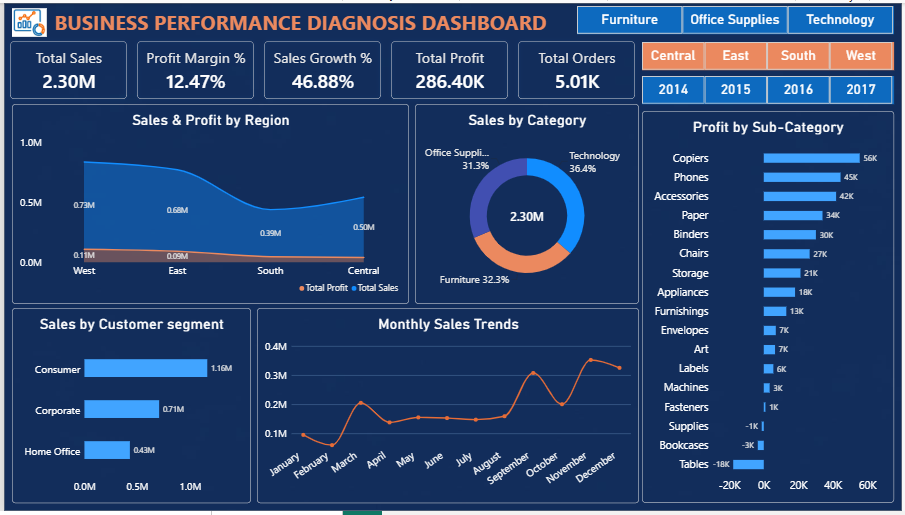

This screenshot's page, from the dashboard's own definition file:
{"tool":"powerbi","page":{"name":"Business Performance Dashboard","canvas":[1920,1080],"ordinal":0},"visuals":[{"type":"image","box":[0,0,1909.1,1080],"z":0},{"type":"cardVisual","fields":{"Data":["superstore_cleaned.Total Profit"]},"box":[812.1,70.2,270,145],"z":2},{"type":"cardVisual","fields":{"Data":["superstore_cleaned.Sales Growth %"]},"box":[542.1,70.2,270,145],"z":3},{"type":"cardVisual","fields":{"Data":["superstore_cleaned.Total Orders"]},"box":[1082.1,70.2,270,145],"z":5},{"type":"cardVisual","fields":{"Data":["superstore_cleaned.Profit Margin %"]},"box":[272.1,70.2,270,145],"z":6},{"type":"lineChart","title":"Monthly Sales Trends","fields":{"Category":["superstore_cleaned.order_date.Variation.Date Hierarchy.Month"],"Y":["superstore_cleaned.Total Sales"]},"box":[537.9,648.4,812.1,414.6],"z":7},{"type":"clusteredBarChart","title":"Profit by Sub-Category","fields":{"Category":["superstore_cleaned.sub-category"],"Y":["superstore_cleaned.Total Profit"]},"box":[1356.4,229.6,535.7,833.4],"z":8},{"type":"stackedAreaChart","title":"Sales & Profit by Region","fields":{"Category":["superstore_cleaned.region"],"Y":["superstore_cleaned.Total Profit","superstore_cleaned.Total Sales"]},"box":[17,214.7,844,425.2],"z":9},{"type":"clusteredBarChart","title":"Sales by Customer segment","fields":{"Category":["superstore_cleaned.segment"],"Y":["superstore_cleaned.Total Sales"]},"box":[17,648.4,508.1,414.6],"z":10},{"type":"donutChart","title":"Sales by Category","fields":{"Category":["superstore_cleaned.category"],"Y":["superstore_cleaned.Total Sales"]},"box":[873.8,214.7,476.2,425.2],"z":11},{"type":"cardVisual","fields":{"Data":["superstore_cleaned.Total Sales"]},"box":[2.1,70.2,270,145],"z":12},{"type":"advancedSlicerVisual","fields":{"Values":["superstore_cleaned.order_year"]},"box":[1356.4,155.2,535.7,59.5],"z":13},{"type":"advancedSlicerVisual","fields":{"Values":["superstore_cleaned.category"]},"box":[1218.2,6.4,673.9,59.5],"z":14},{"type":"advancedSlicerVisual","fields":{"Values":["superstore_cleaned.region"]},"box":[1356.4,82.9,535.7,59.5],"z":15},{"type":"textbox","box":[106.3,10.6,1048.1,72.3],"z":16},{"type":"image","box":[17,0,74.4,82.9],"z":17}]}

Visuals, with their boxes in screenshot pixels (x1, y1, x2, y2), scaled from the page's 1920x1080 canvas onto the 905x515 screenshot:
image: <region>0, 0, 900, 514</region>
cardVisual - superstore_cleaned.Total Profit: <region>383, 33, 510, 103</region>
cardVisual - superstore_cleaned.Sales Growth %: <region>256, 33, 383, 103</region>
cardVisual - superstore_cleaned.Total Orders: <region>510, 33, 637, 103</region>
cardVisual - superstore_cleaned.Profit Margin %: <region>128, 33, 256, 103</region>
"Monthly Sales Trends" lineChart: <region>254, 309, 636, 507</region>
"Profit by Sub-Category" clusteredBarChart: <region>639, 109, 892, 507</region>
"Sales & Profit by Region" stackedAreaChart: <region>8, 102, 406, 305</region>
"Sales by Customer segment" clusteredBarChart: <region>8, 309, 248, 507</region>
"Sales by Category" donutChart: <region>412, 102, 636, 305</region>
cardVisual - superstore_cleaned.Total Sales: <region>1, 33, 128, 103</region>
advancedSlicerVisual - superstore_cleaned.order_year: <region>639, 74, 892, 102</region>
advancedSlicerVisual - superstore_cleaned.category: <region>574, 3, 892, 31</region>
advancedSlicerVisual - superstore_cleaned.region: <region>639, 40, 892, 68</region>
textbox: <region>50, 5, 544, 40</region>
image: <region>8, 0, 43, 40</region>
